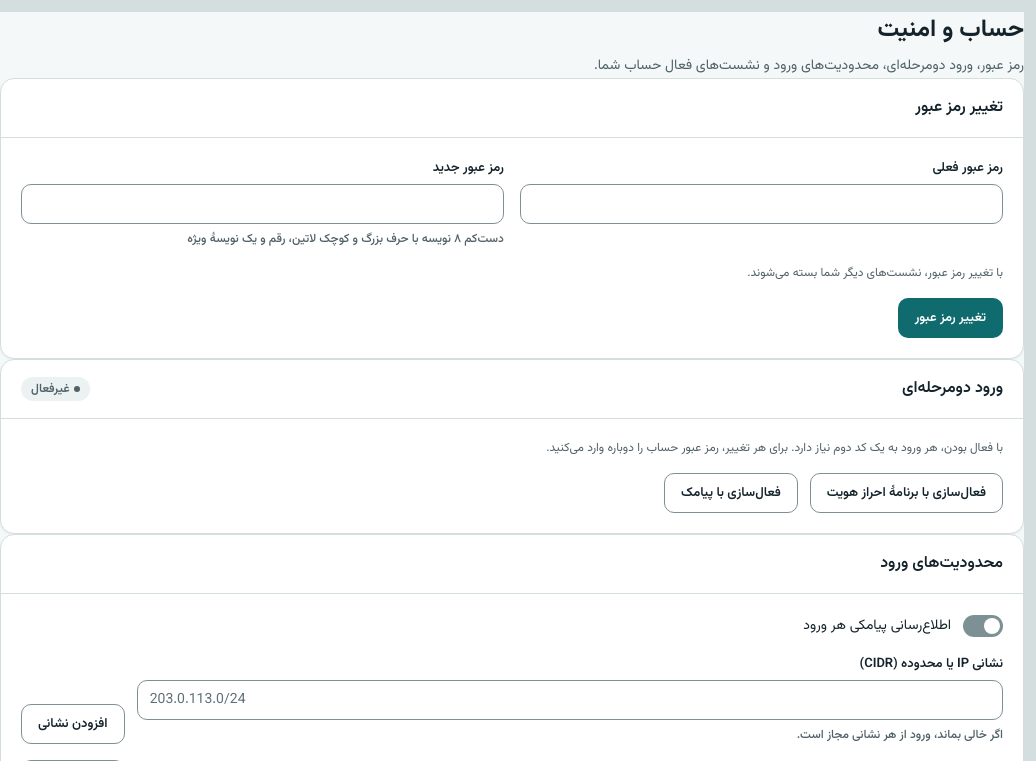
Test: ProfileSecurity › changes the password and reports success
This screenshot has width=1036, height=761.
Type "Oldpass1!" into the password field labelled "رمز عبور فعلی" at (762, 204), box [520,184,1003,224]
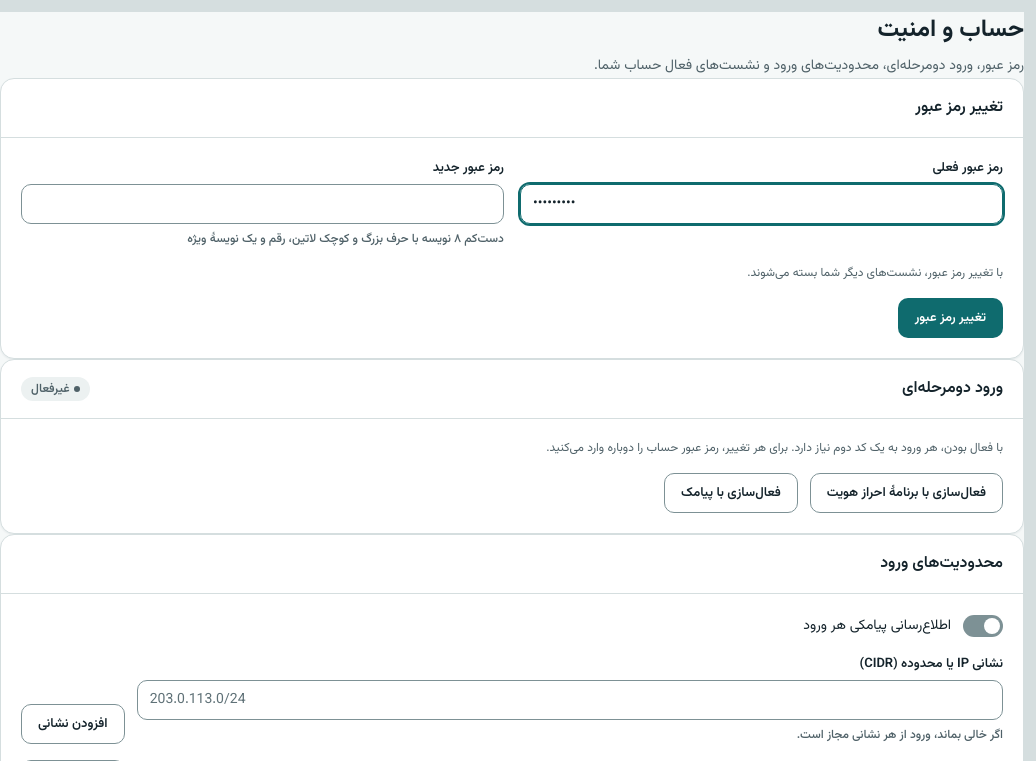
Type "Newpass1!" into the password field labelled "رمز عبور جدید" at (262, 204), box [21,184,504,224]
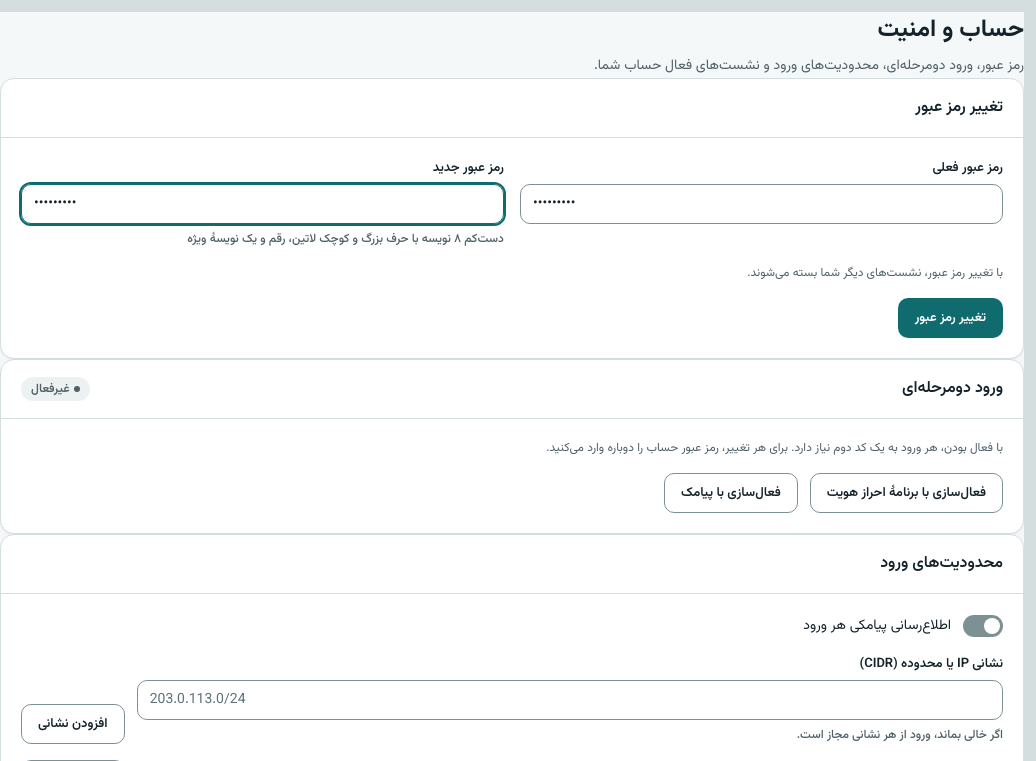
Click the button "تغییر رمز عبور" at (950, 318), box [898,298,1003,338]
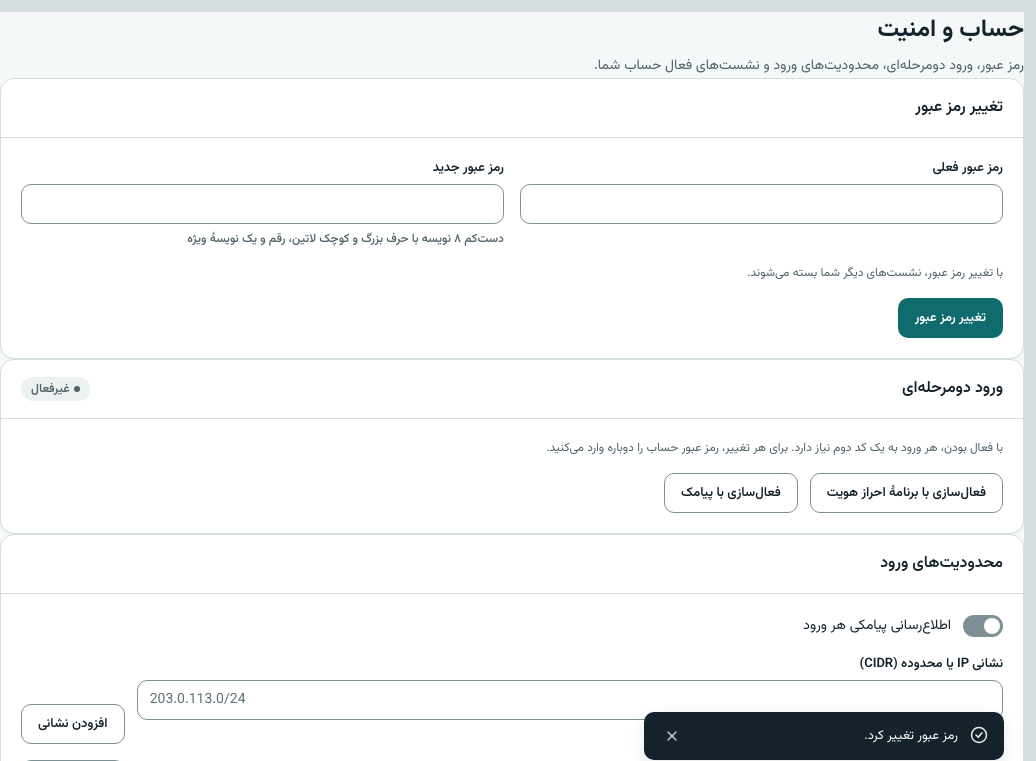
Now the text "رمز عبور تغییر کرد." is shown, box [864,726,958,746]
